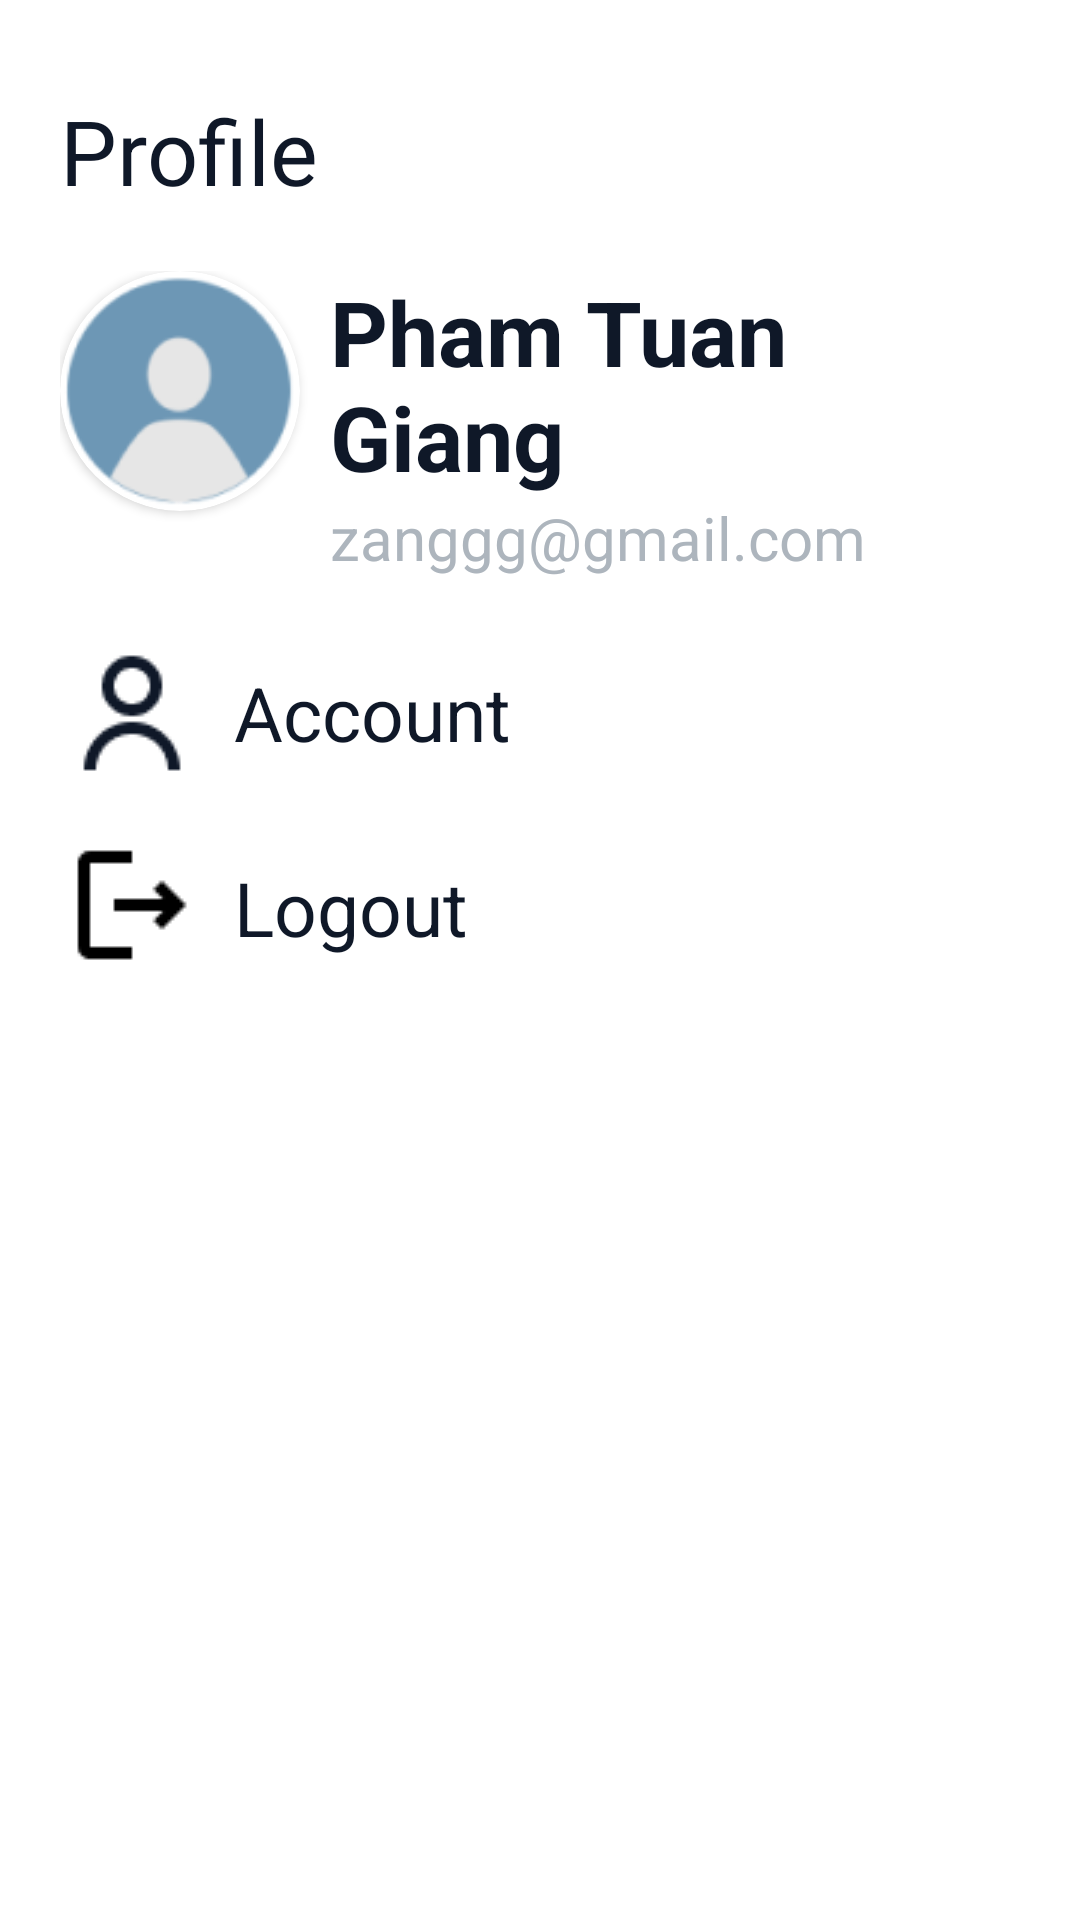

Where to tap for icons on this 1080px×1920px app screen, as (x,y):
defaultavatar: (175,394)
personal: (132,713)
